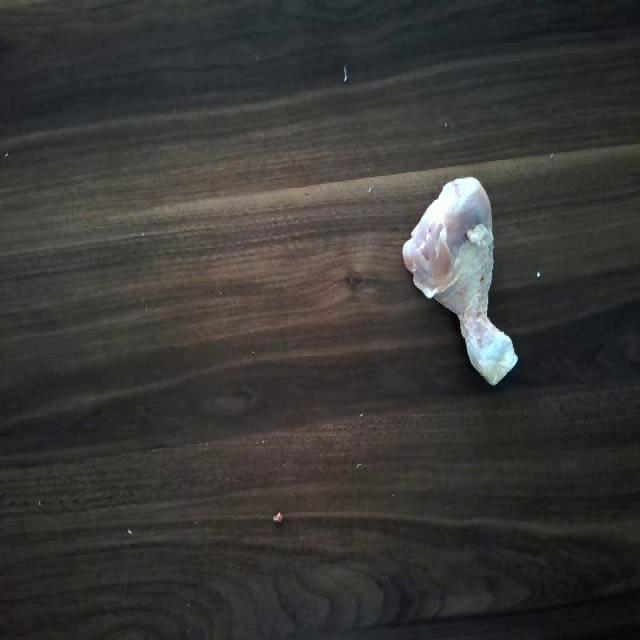leg: (395, 168, 523, 390)
